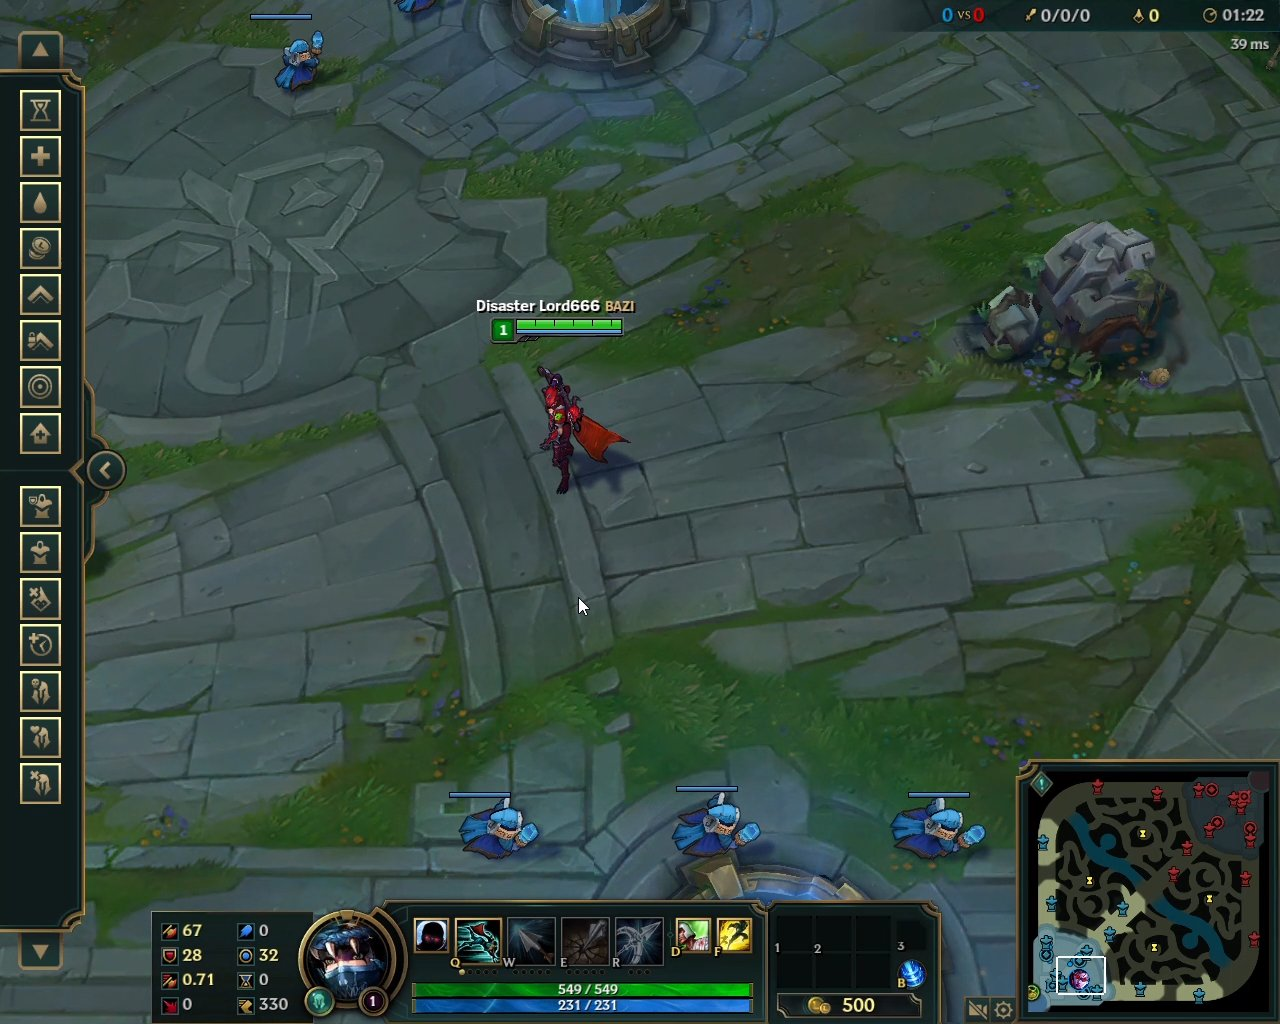Vayne: (526, 360, 638, 499)
